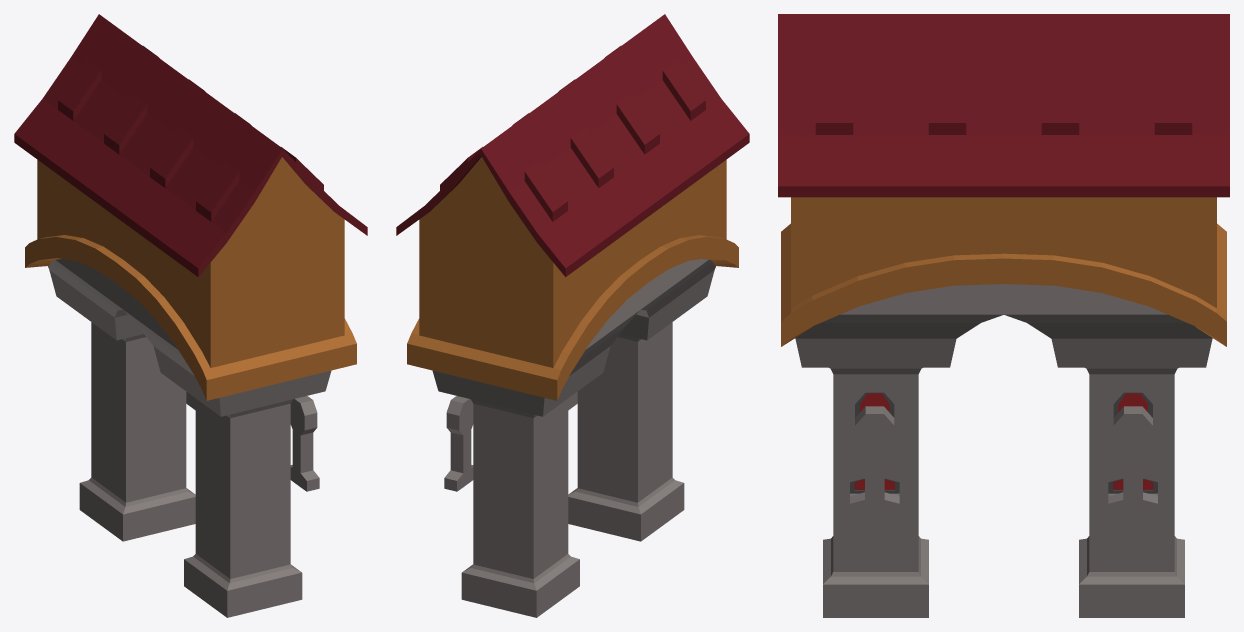
File: Gatehouse TDP 2.fbx
The picture shows the model from 3 angles, left to right: view 1: azimuth 30°, elevation 25°; view 2: azimuth 150°, elevation 25°; view 3: azimuth 270°, elevation 25°; orthographic projection. The views are drawn at different scales.
Parts seen in each view (by area): view 1: Door, 2nd Level, Roof, Door Engraving; view 2: Door, 2nd Level, Roof, Door Engraving; view 3: Roof, Door, 2nd Level, Door Engraving.
Boxes of the visible parts, x1,y1,x2,y2 form: Door: (48,259,331,617); 2nd Level: (25,157,356,400); Roof: (14,14,367,277); Door Engraving: (186,392,319,491); Door: (432,259,715,617); 2nd Level: (407,157,738,400); Roof: (396,14,749,277); Door Engraving: (444,392,577,491); Roof: (778,14,1229,197); Door: (795,284,1212,617); 2nd Level: (781,197,1226,346); Door Engraving: (850,406,1157,516).
Bounding box in the file's own units: 562 × 1510 × 1059.
